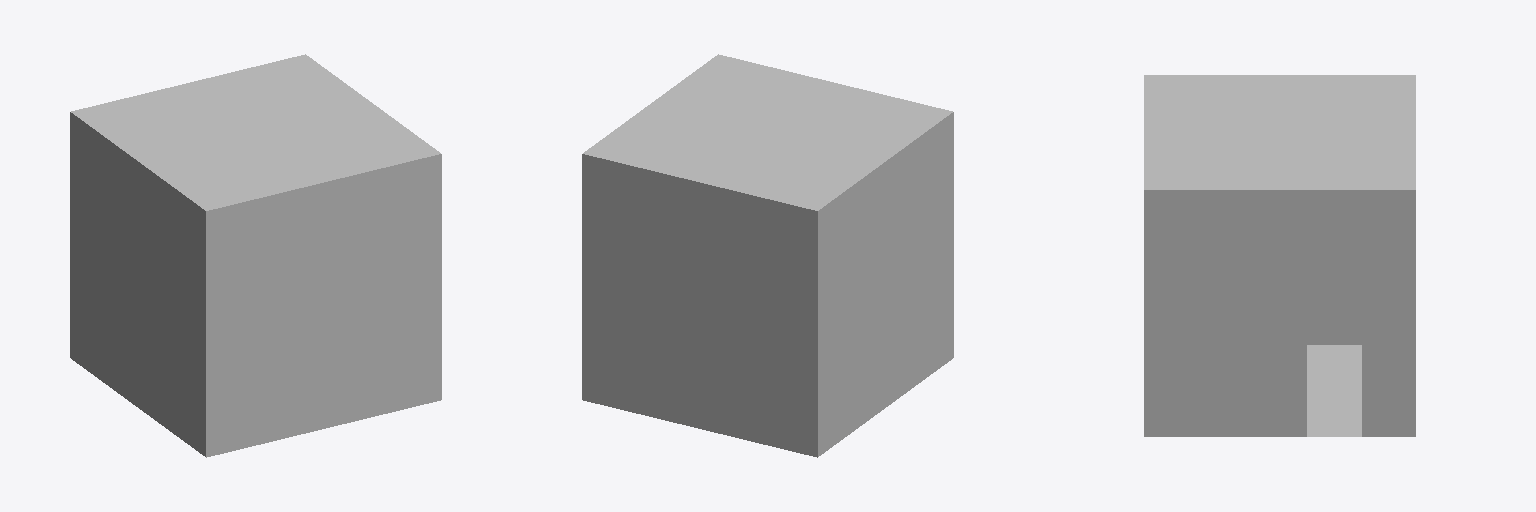
The model's file is gestalt_cube_cut_1.obj.
The picture shows the model from 3 angles: view 1: azimuth 30°, elevation 25°; view 2: azimuth 150°, elevation 25°; view 3: azimuth 270°, elevation 25°; orthographic projection.
Parts seen in each view (by area): view 1: Mesh1 Group1 Model; view 2: Mesh1 Group1 Model; view 3: Mesh1 Group1 Model.
Boxes of the visible parts, x1=… form: Mesh1 Group1 Model: x1=70, y1=54, x2=441, y2=457; Mesh1 Group1 Model: x1=582, y1=54, x2=953, y2=457; Mesh1 Group1 Model: x1=1144, y1=75, x2=1415, y2=436.
Size of the model in its own units: 181 by 181 by 181.